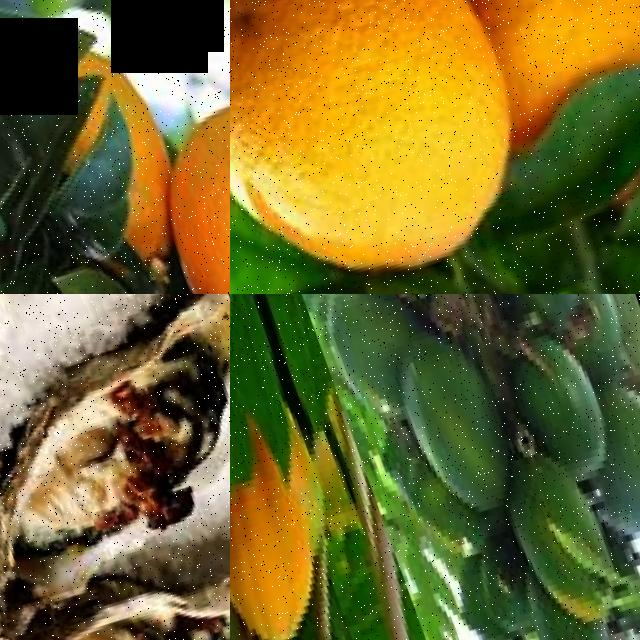orange: (230, 0, 539, 294), (430, 0, 640, 152), (134, 81, 230, 294)
oysters: (0, 335, 230, 615), (0, 516, 230, 640), (0, 294, 84, 509)
pawpaw: (382, 323, 525, 516), (496, 455, 622, 636), (501, 333, 619, 488), (230, 466, 335, 640), (311, 294, 415, 426), (585, 363, 640, 538)
